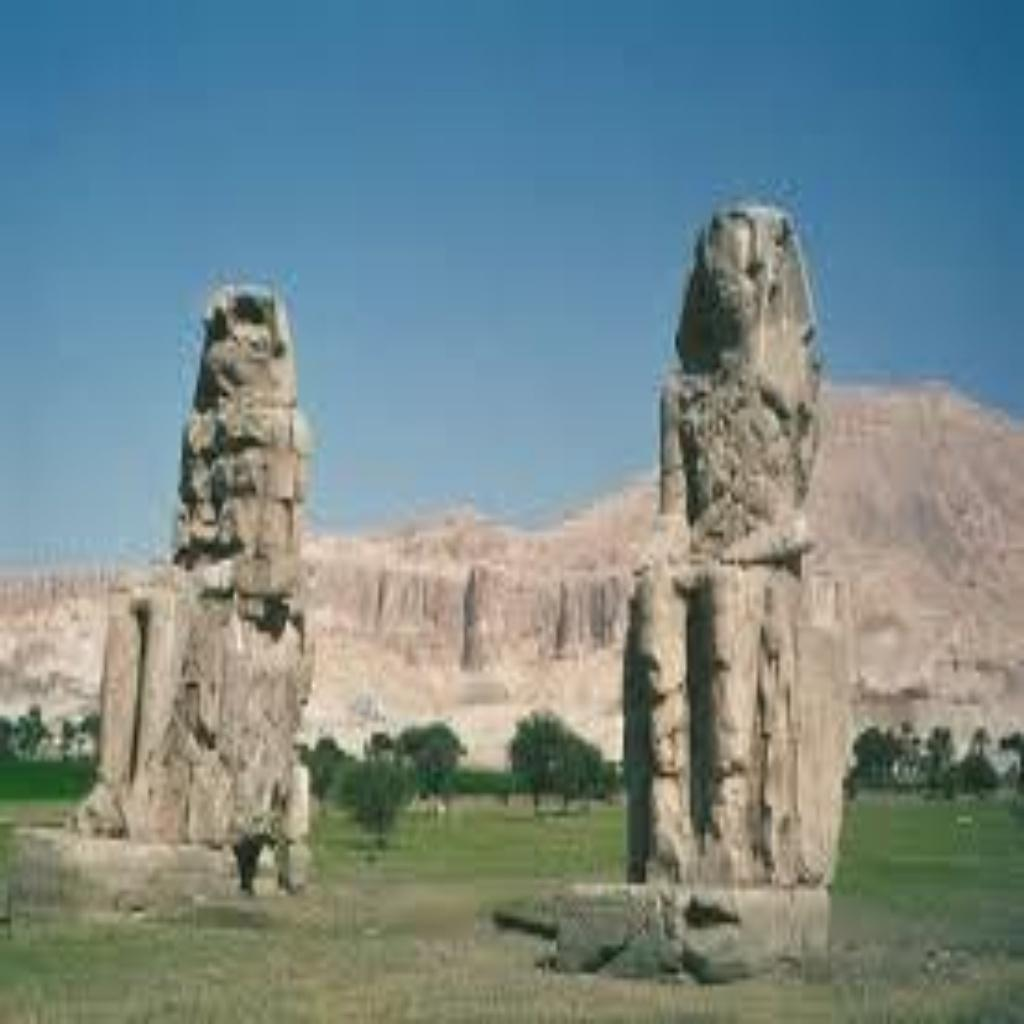Colossoi of Memnon: (608, 184, 858, 934), (72, 283, 320, 895)
